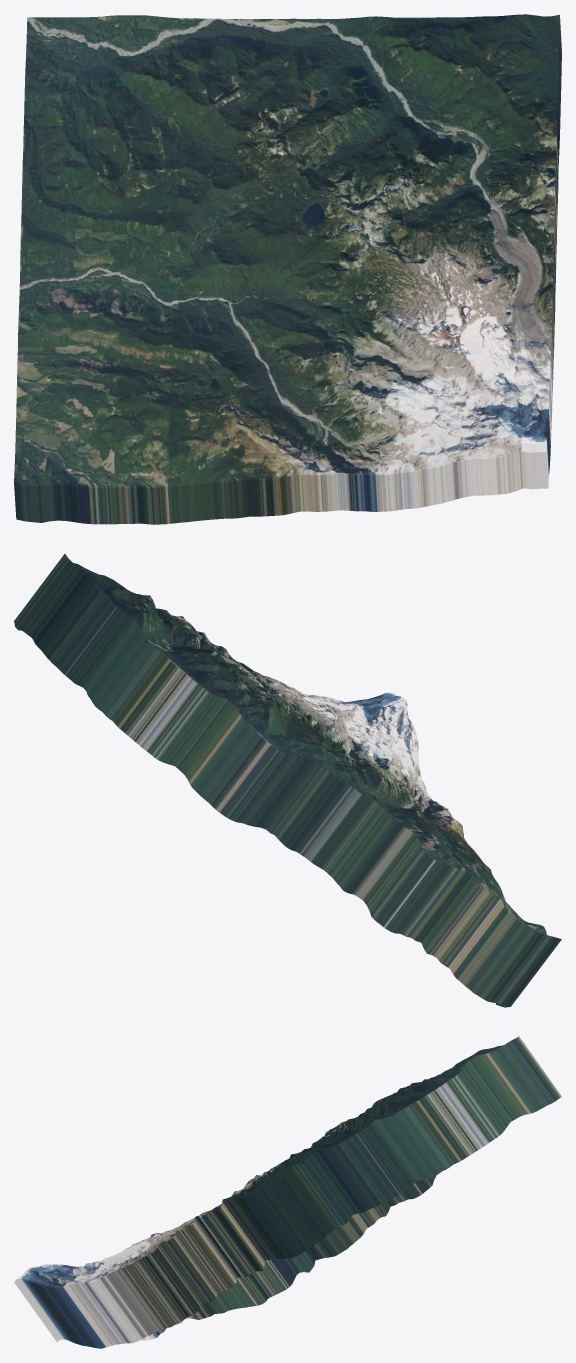
3 views of the same model, one above another, from view 1: azimuth 30°, elevation 25°; view 2: azimuth 150°, elevation 25°; view 3: azimuth 270°, elevation 25° (orthographic). The views are drawn at different scales.
Bounding box in the file's own units: 20862 × 13227 × 22165.
Materials: 1 (1 with a texture image).
